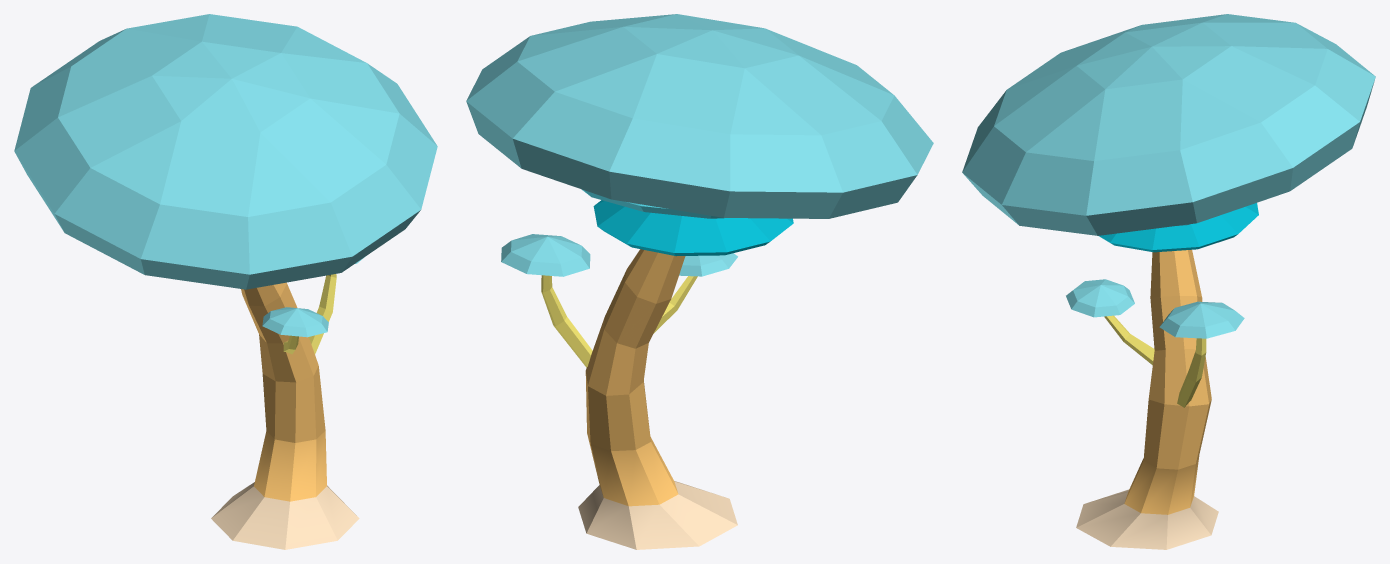
Rendered from mushroom_006.fbx.
The picture shows the model from 3 angles, left to right: view 1: azimuth 30°, elevation 25°; view 2: azimuth 150°, elevation 25°; view 3: azimuth 270°, elevation 25°; orthographic projection. The views are drawn at different scales.
Parts seen in each view (by area): view 1: mushroom.006; view 2: mushroom.006; view 3: mushroom.006.
Boxes of the visible parts, x1=… form: mushroom.006: x1=14, y1=14, x2=437, y2=549; mushroom.006: x1=466, y1=14, x2=933, y2=549; mushroom.006: x1=962, y1=14, x2=1375, y2=549.
Bounding box in the file's own units: 1970 × 2340 × 1934.
1 material, 1 textured.
